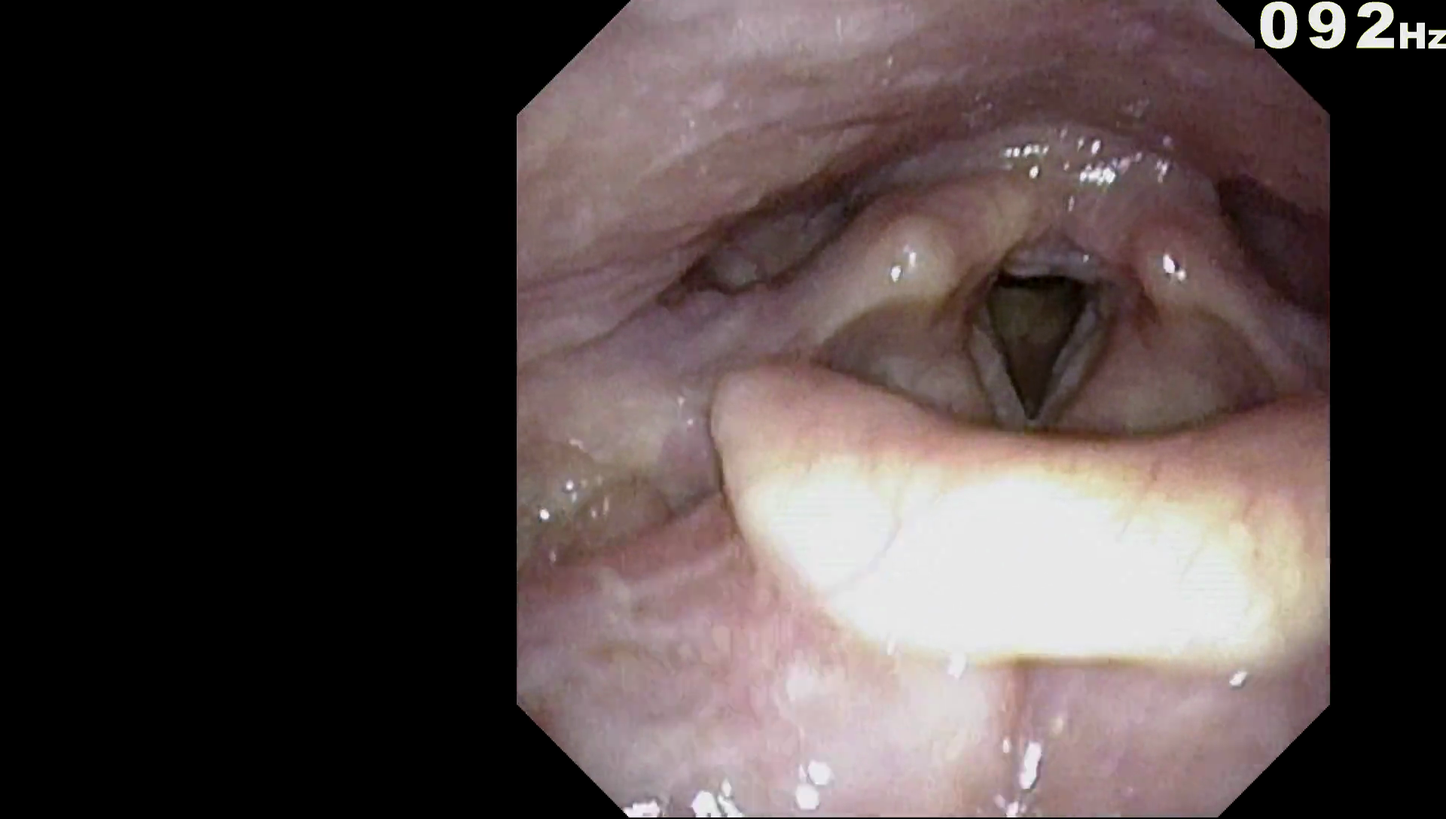trachea: (950, 238, 1132, 449)
